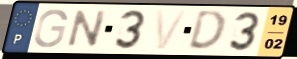3: (228, 10, 262, 53), (113, 8, 147, 51)
D: (185, 9, 227, 53)
G: (32, 7, 70, 49)
N: (64, 8, 110, 49)
V: (154, 9, 190, 52)
